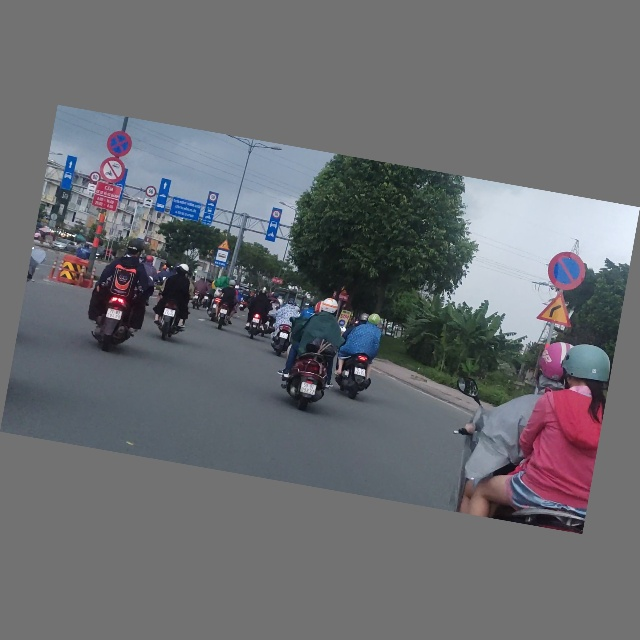I.434a: (213, 248, 230, 269)
P.111: (99, 157, 126, 185)
P.127*50: (270, 210, 282, 220), (208, 193, 218, 203)
P.127*60: (144, 185, 158, 199)
P.127*80: (88, 172, 101, 184)
P.130: (104, 129, 134, 160)
P.131a: (544, 248, 589, 293)
S.505a*Xe tai va cong: (142, 198, 154, 209)
W.201b: (535, 287, 577, 329), (217, 238, 231, 252)
